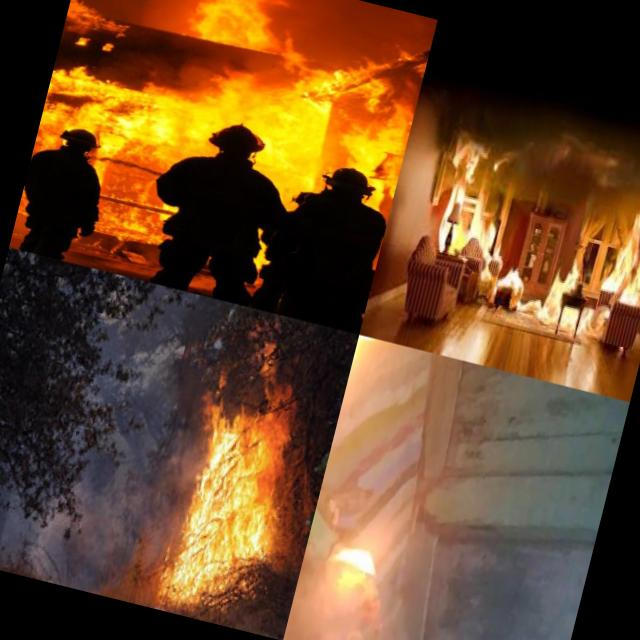fire: (41, 0, 435, 200), (152, 378, 314, 630), (430, 122, 528, 264), (535, 246, 597, 334), (598, 191, 640, 307), (487, 263, 531, 318)
smoke: (392, 361, 630, 640)
